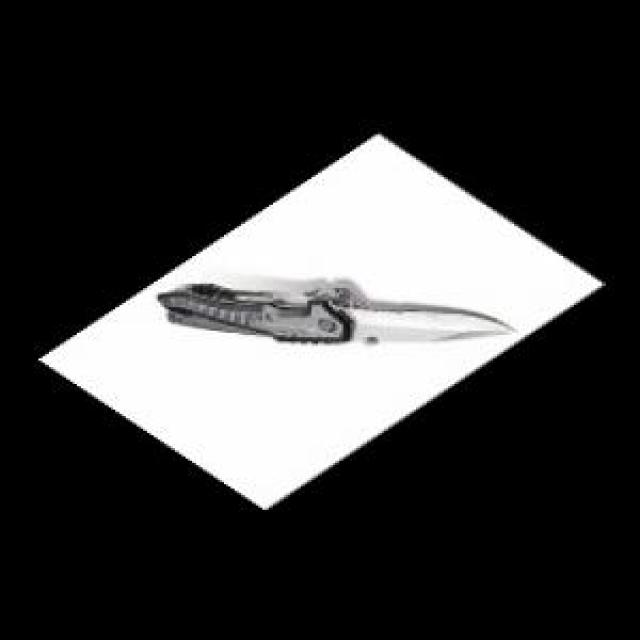knife: (156, 282, 532, 344)
